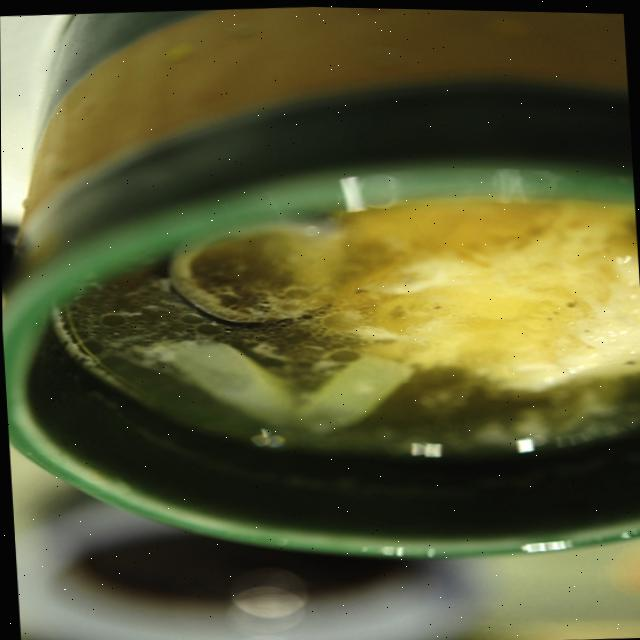汤锅炖物: (0, 53, 640, 627)
